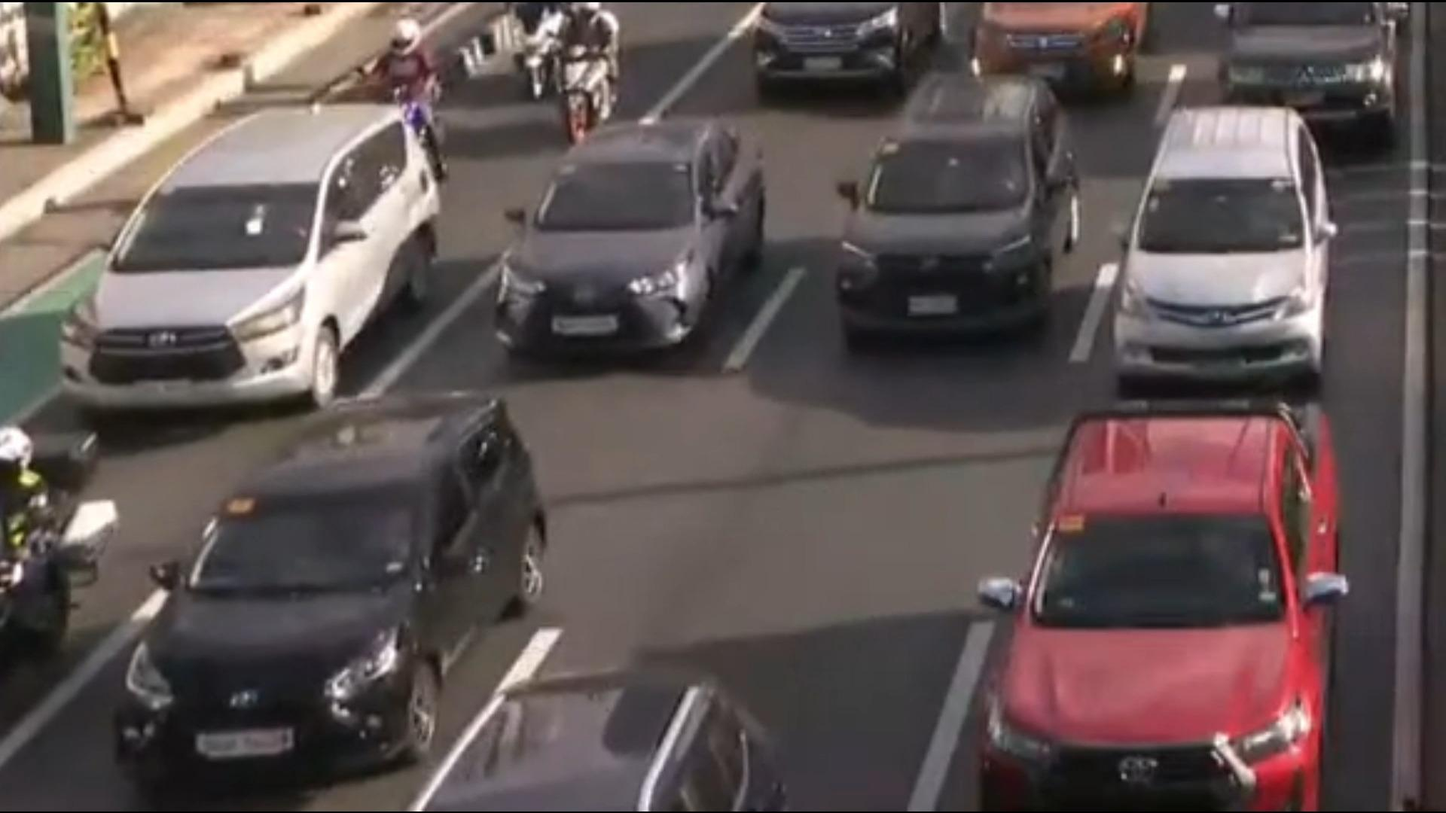Motorcycle: (0, 418, 115, 679), (360, 15, 450, 199), (555, 0, 623, 152)
Pickup: (973, 397, 1344, 811)
SUV: (109, 399, 544, 785), (49, 105, 433, 410), (1107, 105, 1331, 386), (840, 77, 1071, 343), (1194, 0, 1416, 151), (960, 0, 1143, 104), (751, 0, 924, 109)
Sedan: (480, 122, 766, 365)
